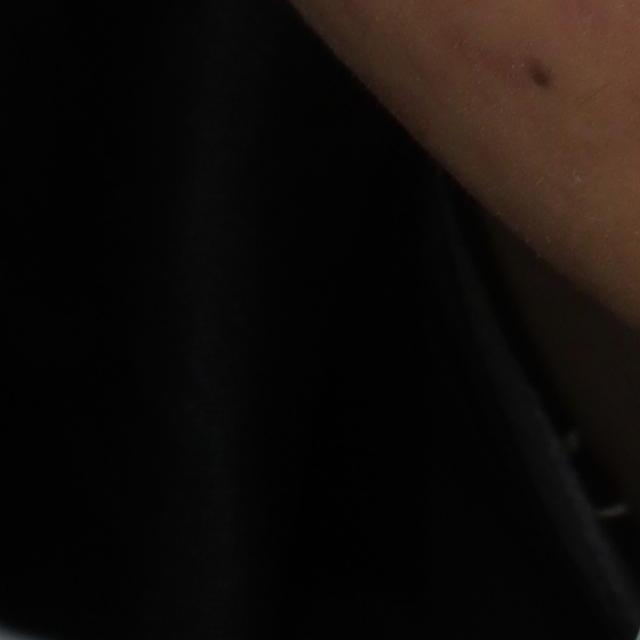nevus: (526, 58, 556, 86)
